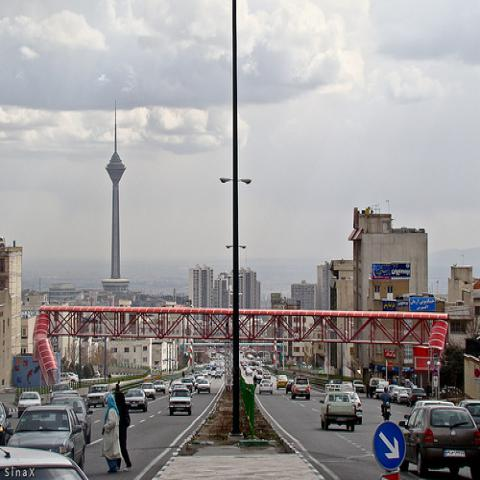car: (1, 344, 479, 447), (398, 405, 479, 479), (6, 405, 87, 471), (0, 446, 90, 479), (168, 386, 192, 417), (125, 389, 148, 412), (407, 387, 428, 406), (141, 383, 156, 401), (259, 378, 274, 396), (196, 379, 212, 394), (153, 380, 166, 395), (214, 371, 222, 379)
motorcycle: (384, 402, 392, 421)
truck: (318, 383, 356, 432), (291, 377, 310, 399)
